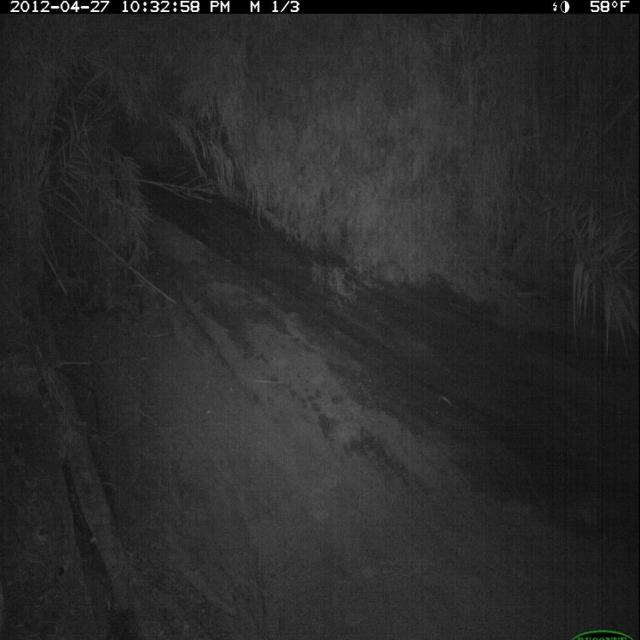opossum: (370, 256, 421, 296)
